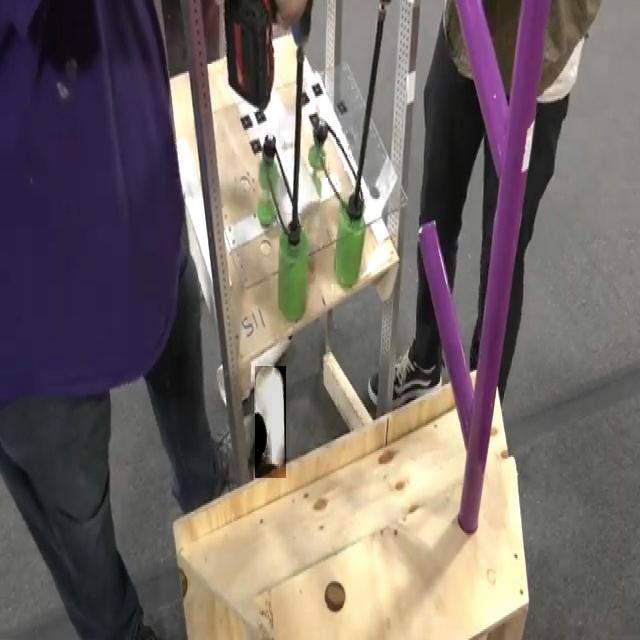Coral: (255, 366, 286, 478)
